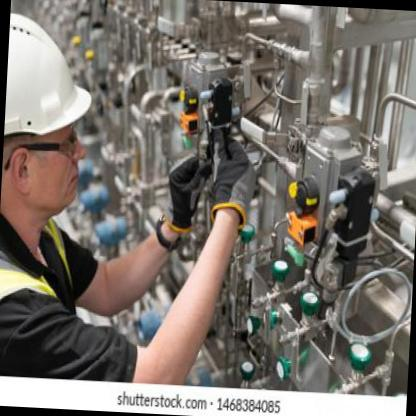Gloves: (205, 132, 258, 231), (163, 150, 212, 232)
